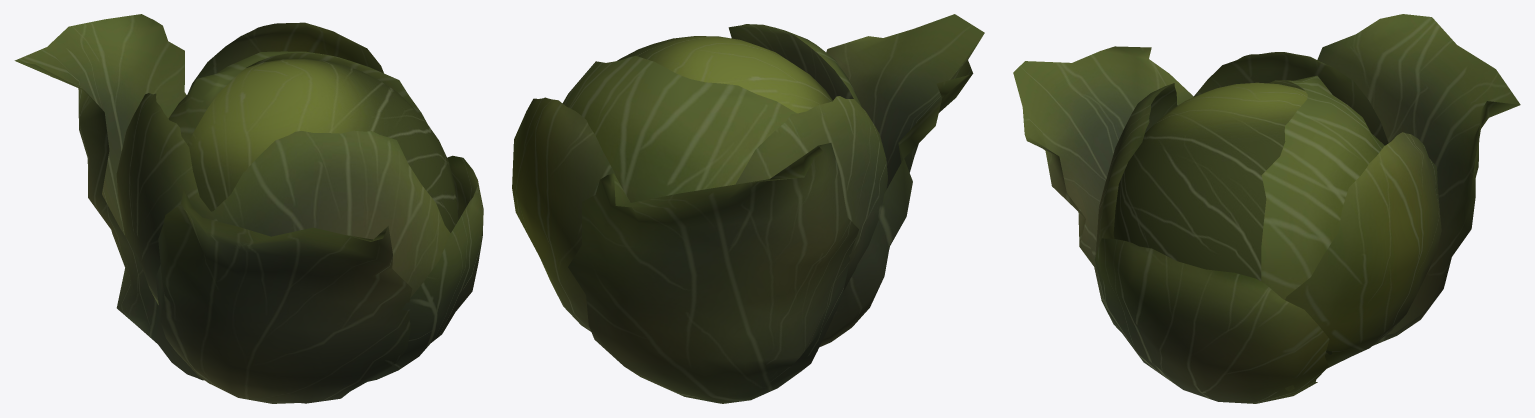
Rendered from cabbage.glb.
The picture shows the model from 3 angles, left to right: view 1: azimuth 30°, elevation 25°; view 2: azimuth 150°, elevation 25°; view 3: azimuth 270°, elevation 25°; orthographic projection. The views are drawn at different scales.
Visible parts, largest first — view 1: pSphere3, pSphere7, pSphere1, pSphere4, pSphere6, pSphere2, pSphere5, pSphere8; view 2: pSphere4, pSphere8, pSphere3, pSphere5, pSphere6, pSphere1, pSphere7; view 3: pSphere1, pSphere2, pSphere4, pSphere5, pSphere3, pSphere8, pSphere6, pSphere7.
Boxes of the visible parts, bbox=[...] form: pSphere3: bbox=[155, 188, 412, 403]; pSphere7: bbox=[211, 130, 450, 297]; pSphere1: bbox=[187, 58, 458, 232]; pSphere4: bbox=[14, 14, 203, 380]; pSphere6: bbox=[116, 93, 218, 300]; pSphere2: bbox=[368, 155, 483, 381]; pSphere5: bbox=[157, 22, 383, 303]; pSphere8: bbox=[168, 51, 427, 144]; pSphere4: bbox=[568, 143, 858, 403]; pSphere8: bbox=[562, 55, 796, 202]; pSphere3: bbox=[819, 14, 984, 347]; pSphere5: bbox=[512, 97, 616, 331]; pSphere6: bbox=[735, 96, 887, 291]; pSphere1: bbox=[617, 36, 832, 113]; pSphere7: bbox=[728, 24, 861, 106]; pSphere1: bbox=[1113, 82, 1332, 354]; pSphere2: bbox=[1094, 238, 1329, 403]; pSphere4: bbox=[1317, 14, 1520, 345]; pSphere5: bbox=[1285, 132, 1441, 391]; pSphere3: bbox=[1013, 46, 1193, 331]; pSphere8: bbox=[1261, 75, 1384, 299]; pSphere6: bbox=[1193, 52, 1388, 145]; pSphere7: bbox=[1095, 83, 1177, 255].
Bounding box in the file's own units: 177 × 145 × 234.
1 material, 1 textured.
